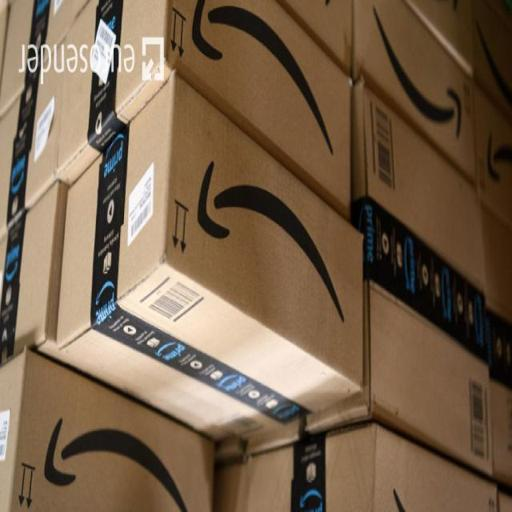Amazon: (56, 77, 367, 443), (68, 0, 354, 196), (364, 117, 482, 456), (0, 355, 210, 512), (356, 0, 474, 163), (244, 450, 496, 512), (4, 45, 62, 233), (0, 191, 60, 354), (474, 4, 512, 206), (4, 1, 73, 109), (483, 217, 512, 468)
